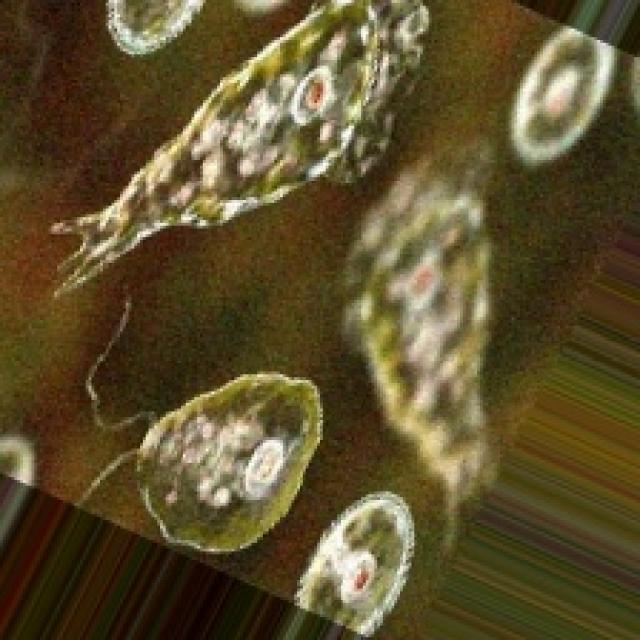Amoeba: (6, 4, 471, 304), (41, 334, 449, 637)
